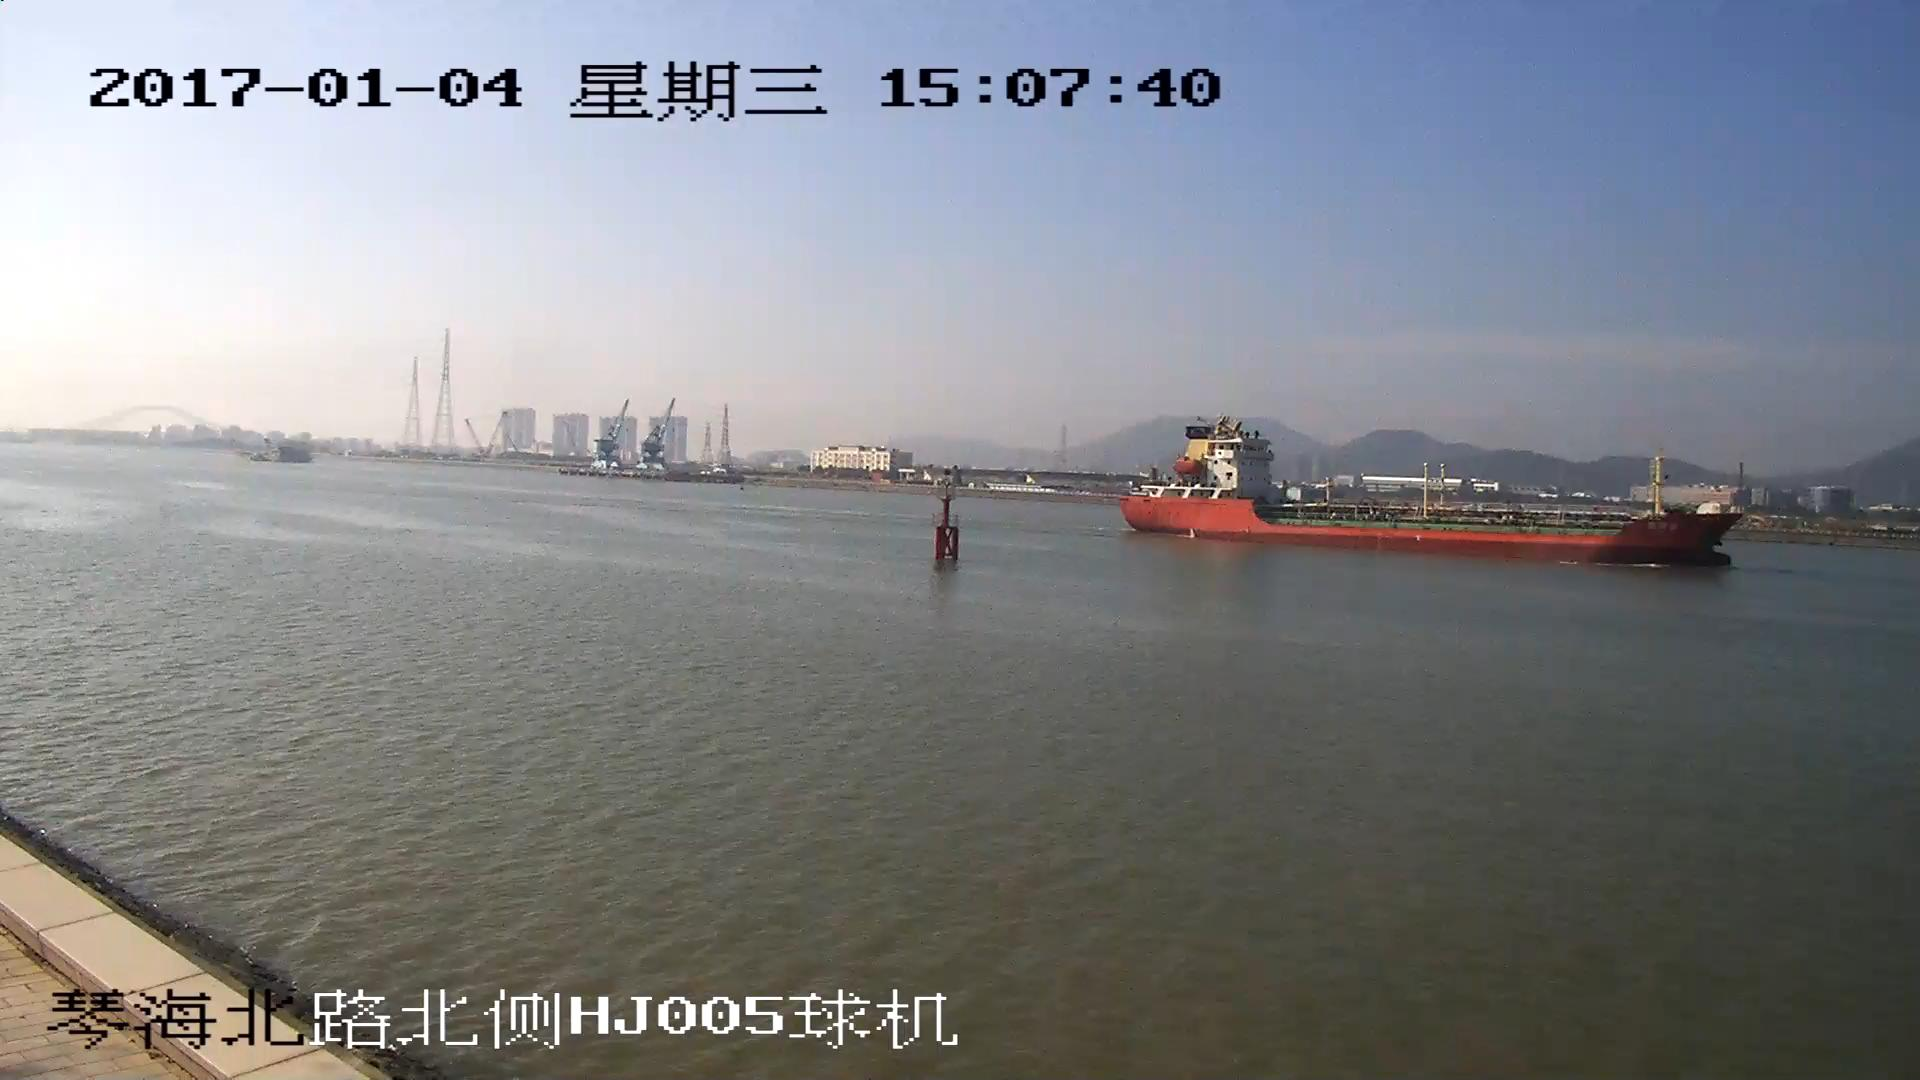general cargo ship: (1117, 422, 1733, 569)
